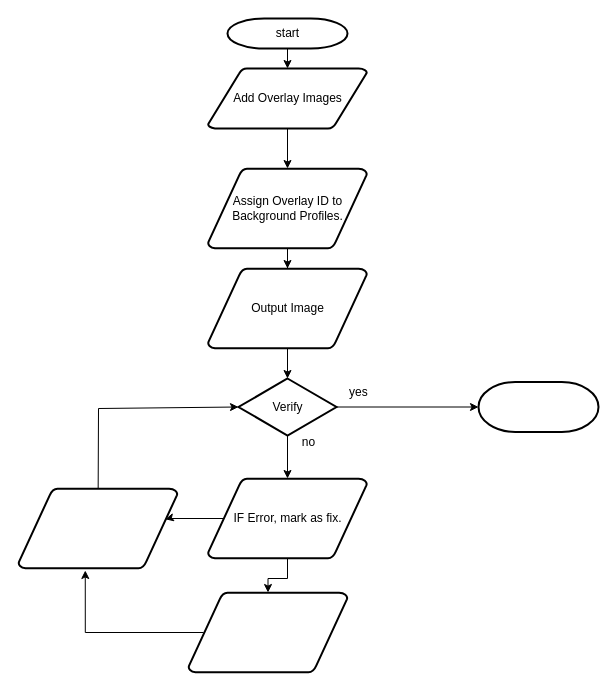
This 616x690 diagram has some shape labels left out. Here are the shapes that lost their labels. From the top down, the box of each, then its label:
(477, 380, 599, 432): Final Image End
(17, 487, 178, 569): Fix Water Mark
(187, 591, 348, 673): Fix Background
